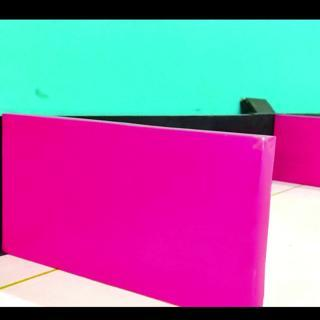xparking: (24, 139, 258, 303), (286, 119, 316, 186)
